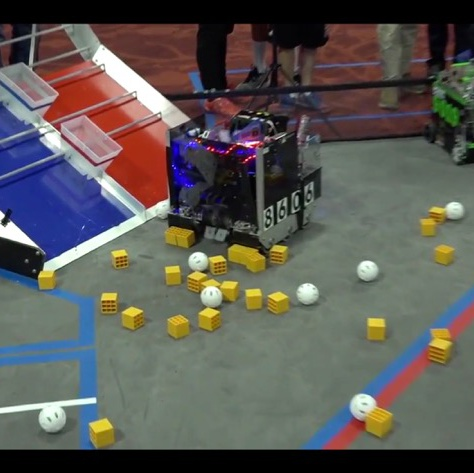robot: (160, 105, 326, 250), (418, 57, 474, 168)
